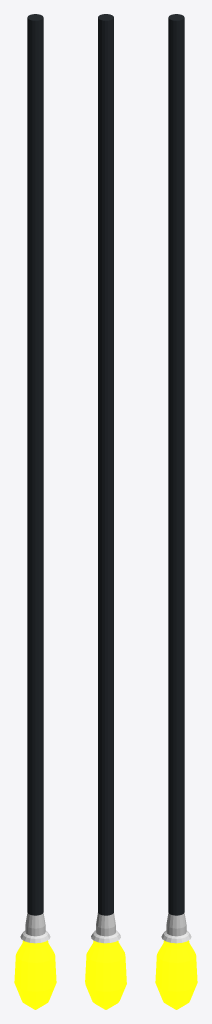
Rendered from LampWire.fbx.
3 renders of one model, left to right at view 1: azimuth 90°, elevation 25°; view 2: azimuth 150°, elevation 25°; view 3: azimuth 270°, elevation 25°, orthographic.
Parts seen in each view (by area): view 1: Cylinder; view 2: Cylinder; view 3: Cylinder.
Boxes of the visible parts, <box> form: Cylinder: <box>14,14,56,1009</box>; Cylinder: <box>85,14,126,1009</box>; Cylinder: <box>155,14,197,1009</box>.
Bounding box in the file's own units: 18.02 × 468 × 18.02.
